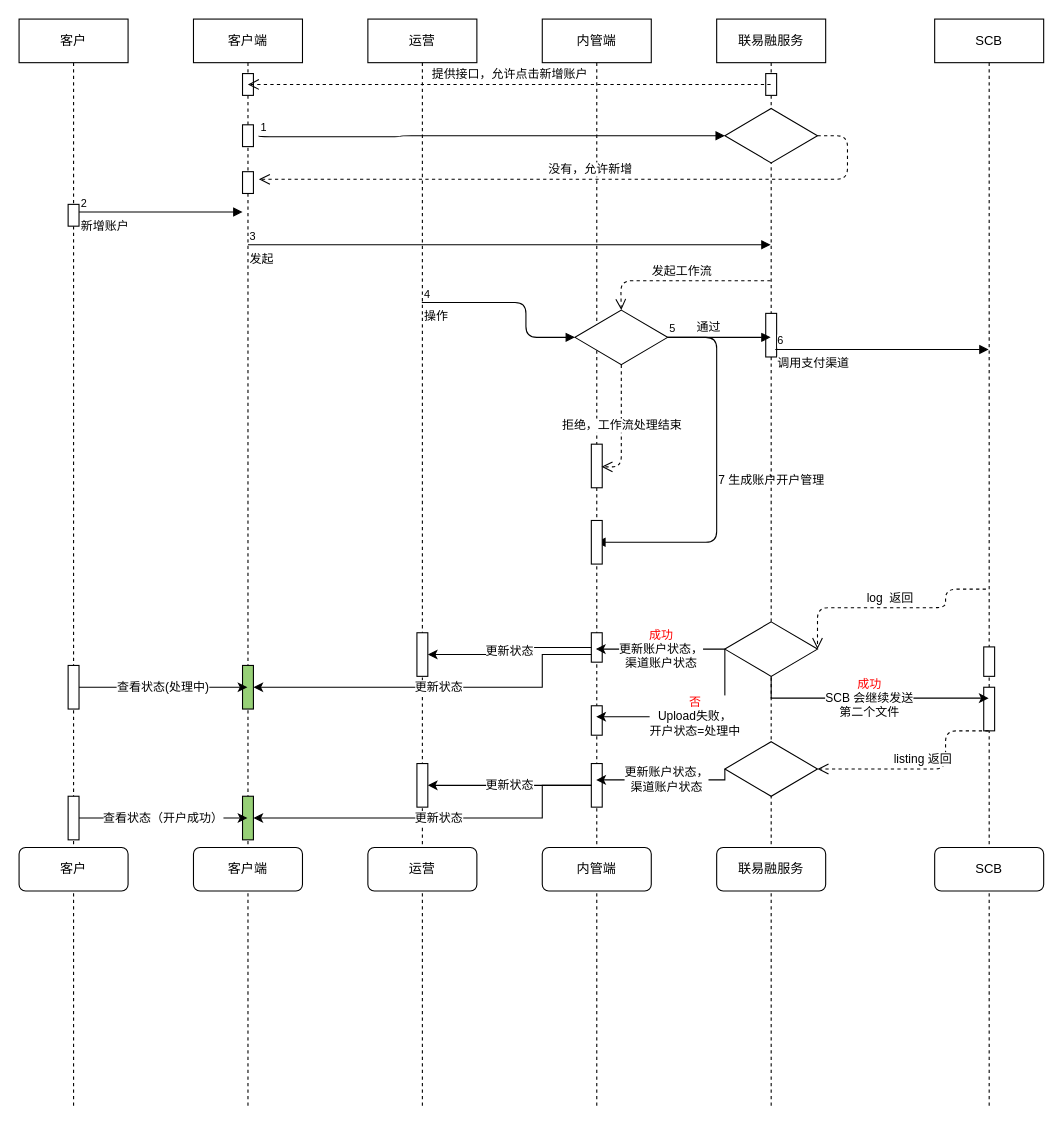
This 1063x1128 diagram has some shape labels left out. The centre of each missing label's shape, as x and y in pixels:
"审核" goes at (621,337).
"是否有拒绝" goes at (771,768).
"是否有接收成功" goes at (771,648).
"有没有未处理的开户申请" goes at (771,135).
